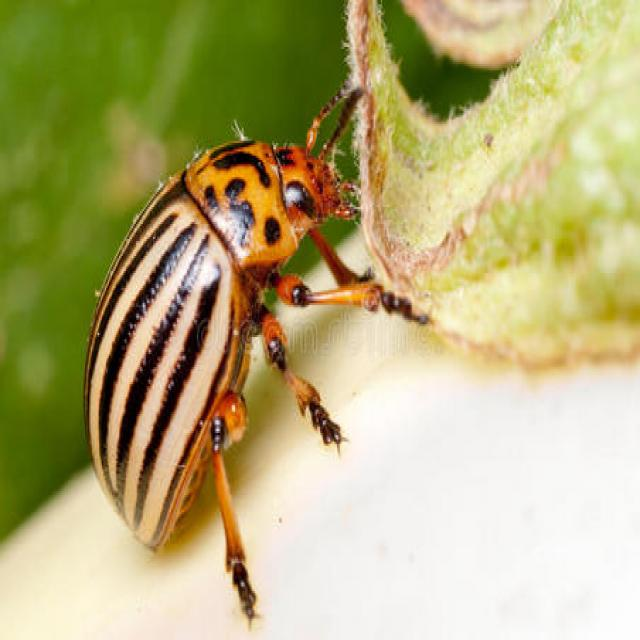ShuCaiHuaBanChong-Grown-: (58, 98, 375, 566)
